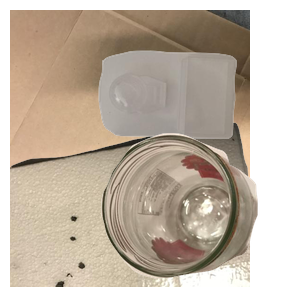cardboard: (10, 10, 250, 190)
glass: (98, 131, 300, 300)
plastic: (96, 48, 300, 179)
trash: (10, 120, 250, 300)
